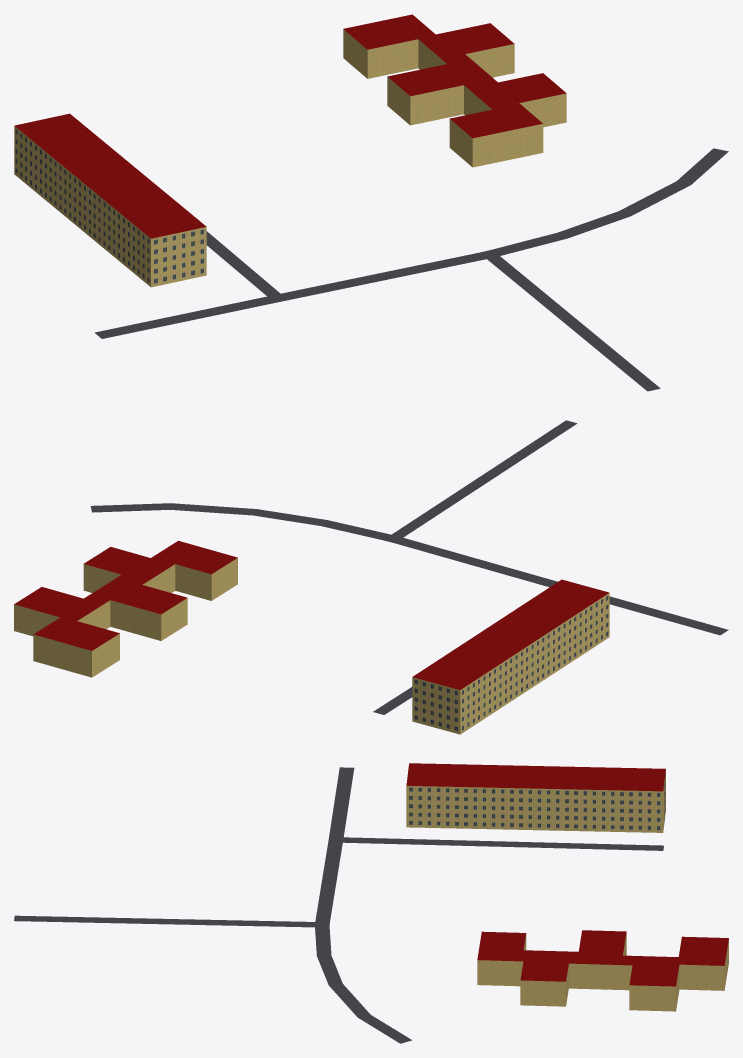
File: district_2_2.glb
3 renders of one model, top to bottom at view 1: azimuth 30°, elevation 25°; view 2: azimuth 150°, elevation 25°; view 3: azimuth 270°, elevation 25°, orthographic. The views are drawn at different scales.
Visible parts, largest first — view 1: Building w44036164, Building w44036169, Road w40942522, Road w40942521, Road w40942446, Road w475516989; view 2: Building w44036164, Building w44036169, Road w40942522, Road w40942521, Road w40942446; view 3: Building w44036169, Building w44036164, Road w40942522, Road w475516989, Road w40942521, Road w40942446.
Boxes of the visible parts, x1,y1,x2,y2 form: Building w44036164: [343, 14, 566, 167]; Building w44036169: [14, 113, 206, 287]; Road w40942522: [95, 252, 486, 338]; Road w40942521: [491, 148, 728, 255]; Road w40942446: [487, 256, 660, 391]; Road w475516989: [206, 231, 280, 296]; Building w44036164: [14, 540, 237, 677]; Building w44036169: [412, 579, 609, 734]; Road w40942522: [395, 537, 728, 635]; Road w40942521: [90, 503, 390, 540]; Road w40942446: [392, 420, 577, 537]; Building w44036169: [406, 763, 665, 832]; Building w44036164: [477, 930, 728, 1011]; Road w40942522: [315, 767, 354, 922]; Road w475516989: [343, 837, 663, 850]; Road w40942521: [315, 927, 411, 1043]; Road w40942446: [14, 915, 315, 927].
Size of the model in its own units: 178 by 12.5 by 195.
4 materials, 4 textured.
